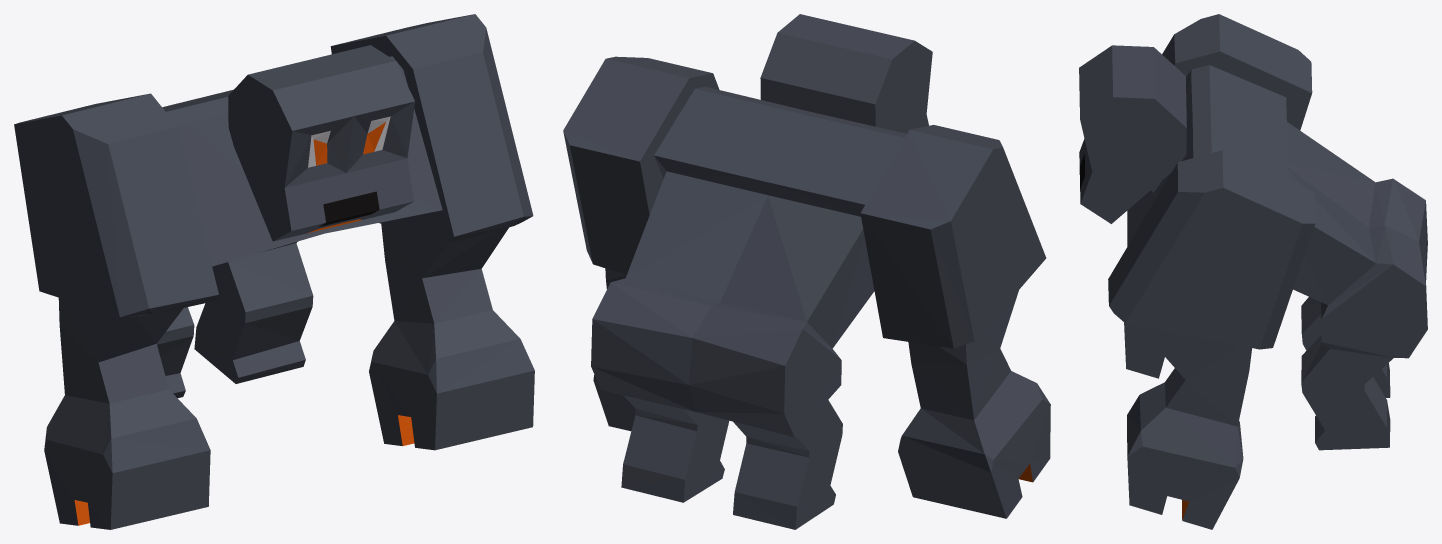
File: kong_000027.obj
3 renders of one model, left to right at view 1: azimuth 30°, elevation 25°; view 2: azimuth 150°, elevation 25°; view 3: azimuth 270°, elevation 25°, orthographic. The views are drawn at different scales.
Visible parts, largest first — view 1: Cube; view 2: Cube; view 3: Cube.
Boxes of the visible parts, x1,y1,x2,y2 form: Cube: [14, 14, 534, 529]; Cube: [563, 14, 1050, 529]; Cube: [1079, 14, 1427, 529].
Size of the model in its own units: 5.85 by 5.74 by 4.87.
1 material, 1 textured.
